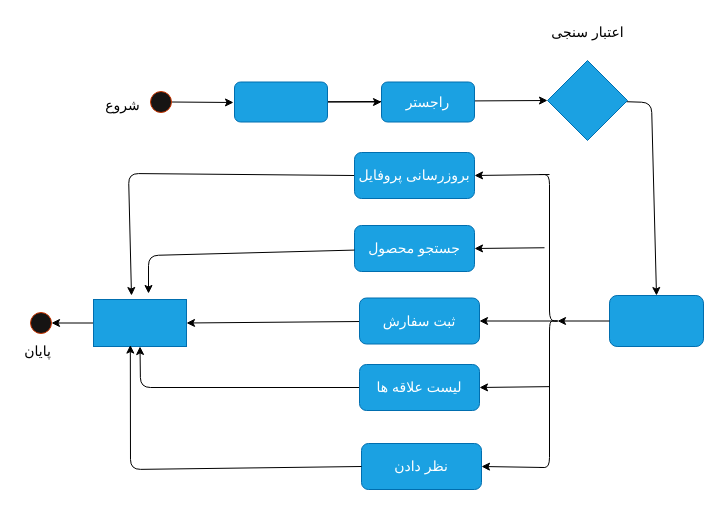
Some shapes in this 721 by 507 pixel diagram are drawn without their labels. The centre of each missing label's shape, as x and y in pixels:
"خروج" belongs at (139,322).
"صفحه پروفایل" belongs at (656,320).
"ورود به سیستم" belongs at (281,101).
